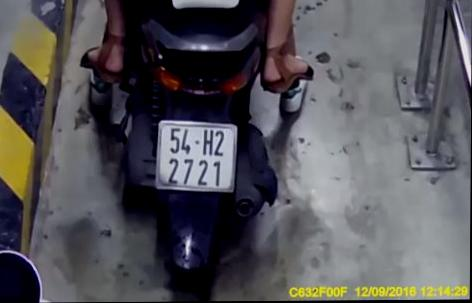License_Plate: (153, 118, 245, 201)
